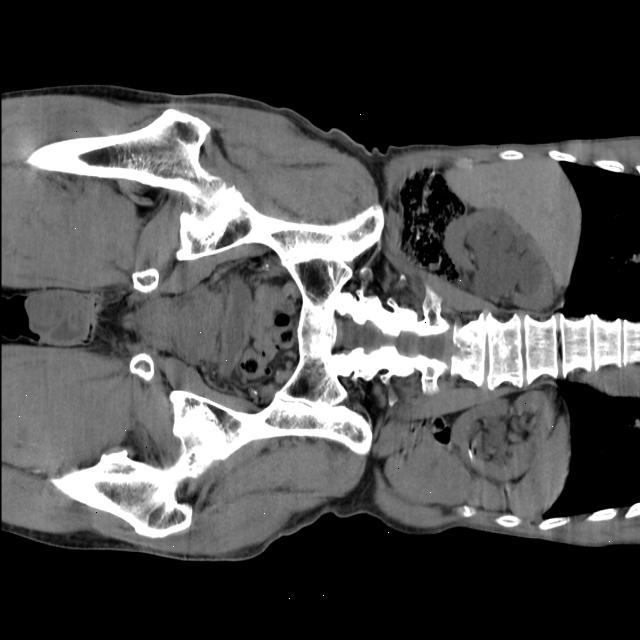kidneystone: (468, 450, 478, 456)
